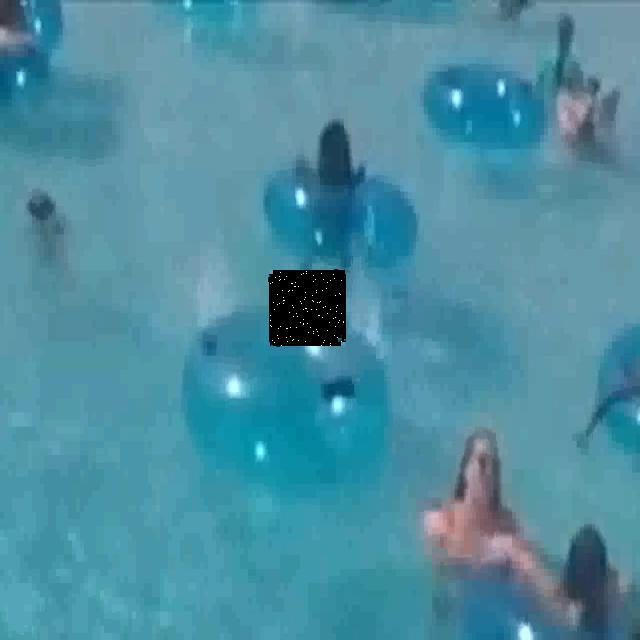Out of Water: (270, 270, 345, 346)
